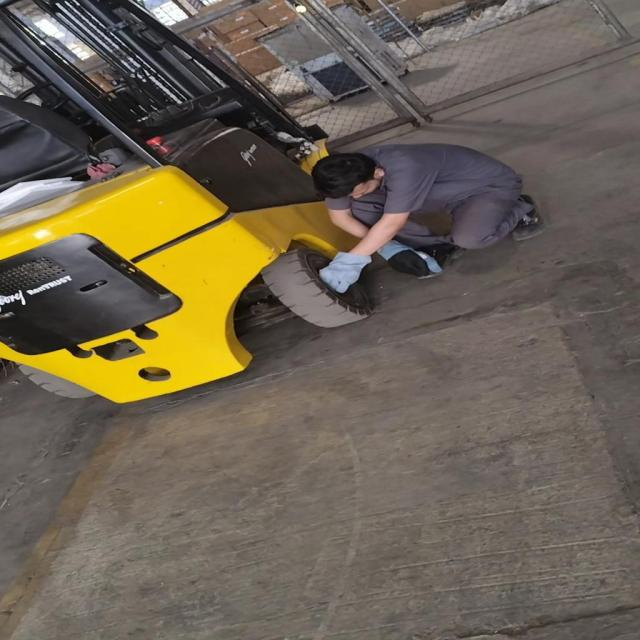Gloves-Detection: (370, 238, 440, 280), (319, 243, 362, 290)
